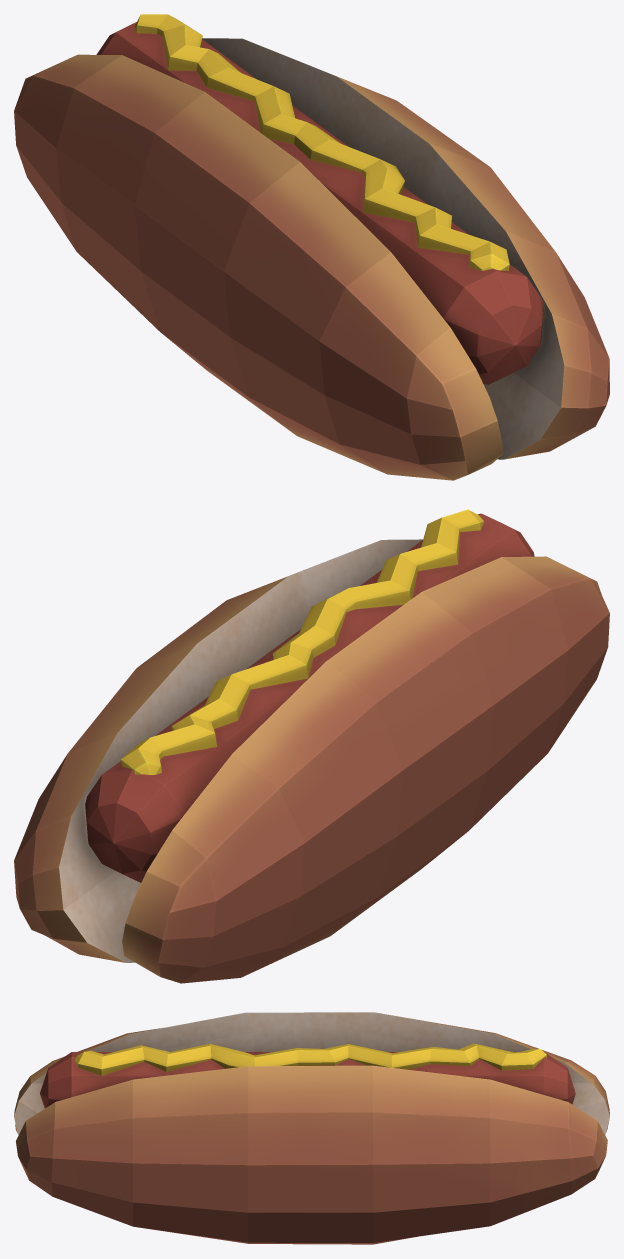
File: Hotdog.obj
The picture shows the model from 3 angles, top to bottom: view 1: azimuth 30°, elevation 25°; view 2: azimuth 150°, elevation 25°; view 3: azimuth 270°, elevation 25°; orthographic projection. The views are drawn at different scales.
Parts seen in each view (by area): view 1: Hotdog_Mesh; view 2: Hotdog_Mesh; view 3: Hotdog_Mesh.
Boxes of the visible parts, x1=… form: Hotdog_Mesh: x1=14, y1=14, x2=609, y2=480; Hotdog_Mesh: x1=14, y1=509, x2=609, y2=983; Hotdog_Mesh: x1=14, y1=1012, x2=609, y2=1244.
Size of the model in its own units: 4.41 by 3.97 by 11.32.
1 material, 1 textured.
